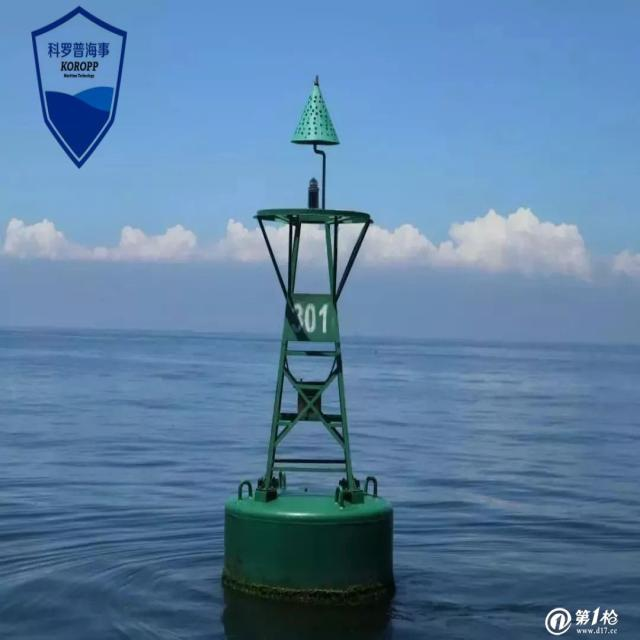buoy: (218, 67, 399, 600)
